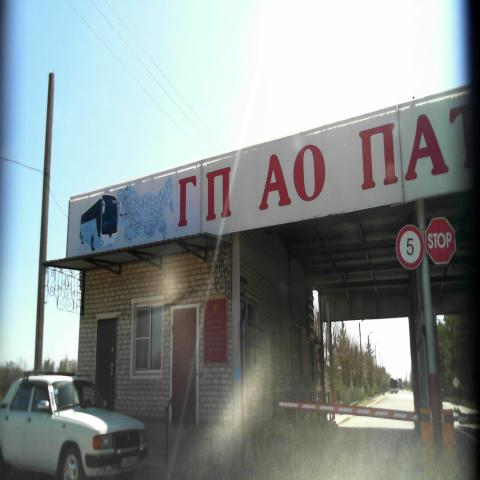2_5: (426, 211, 456, 266)
